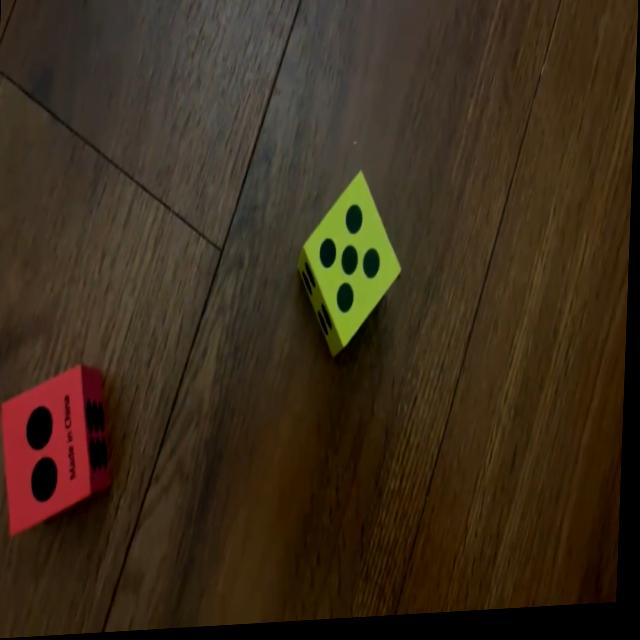red_block: (0, 367, 118, 538)
